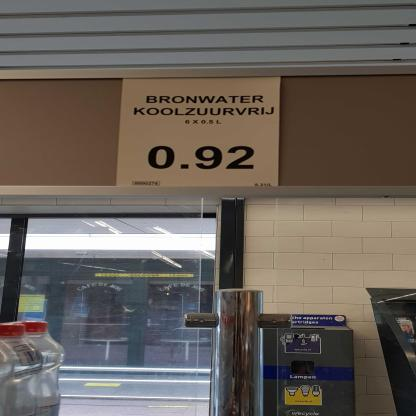prtg: (116, 77, 284, 187)
